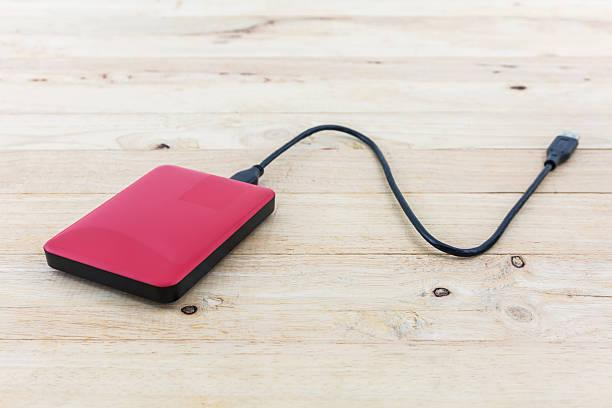HDD: (42, 166, 277, 306)
